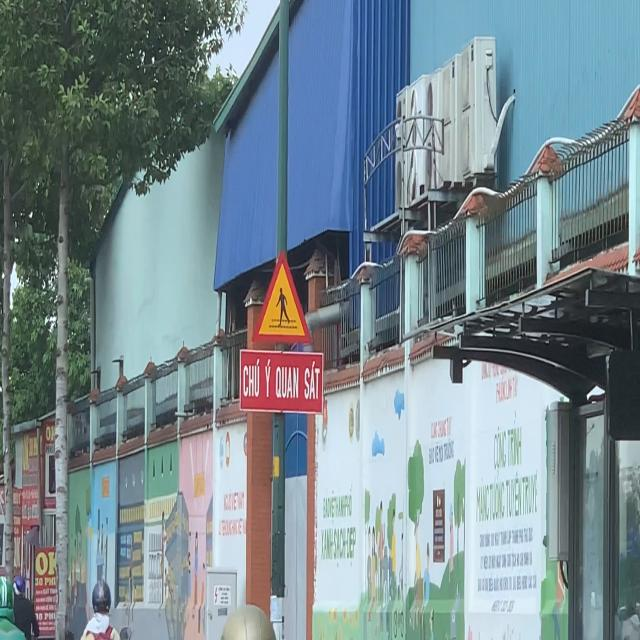Nguoi di bo cat ngang: (251, 248, 312, 344)
